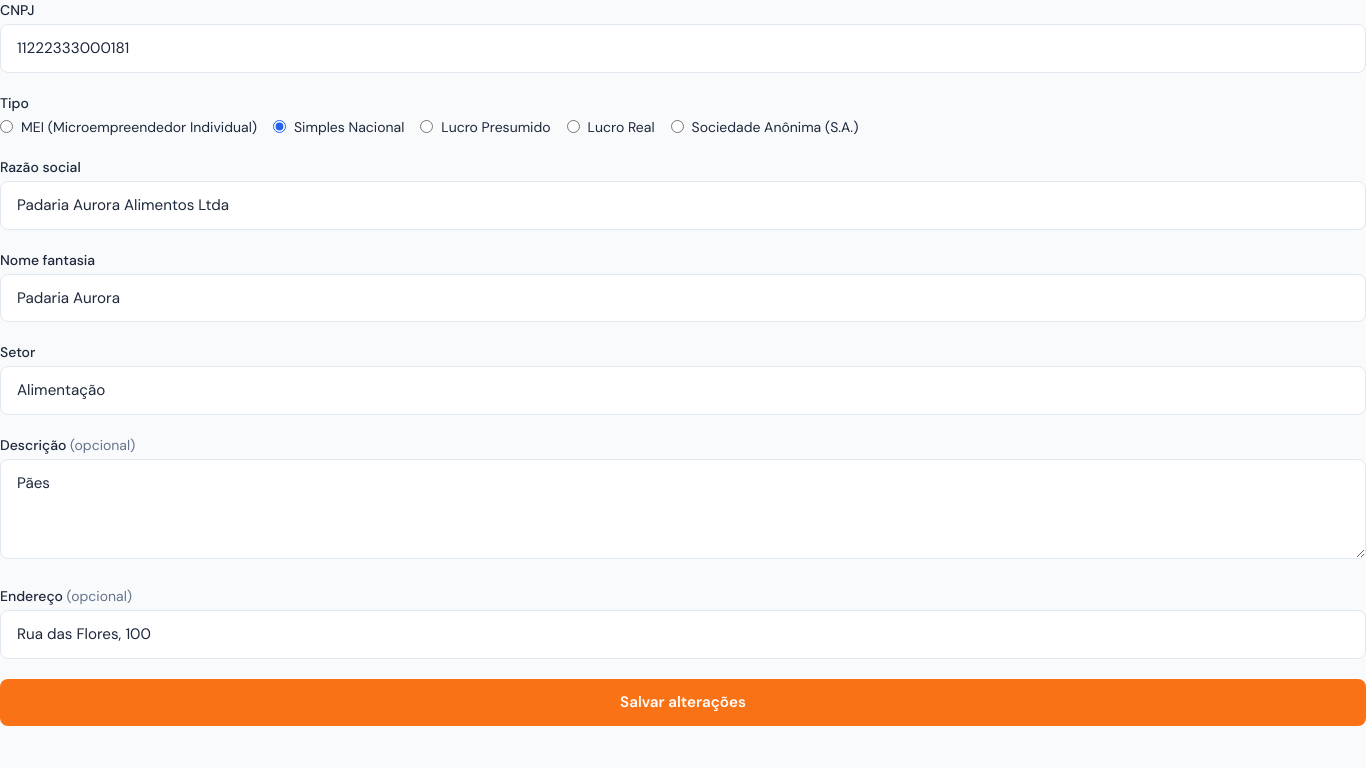
EditCompanyForm (USP-015) › cancelar o diálogo não envia a edição
This screenshot has width=1366, height=768.
Replace the text in the field labelled "Razão social" with "Outra Razão Social Ltda" at (683, 205), box 0,181 -> 1365,230
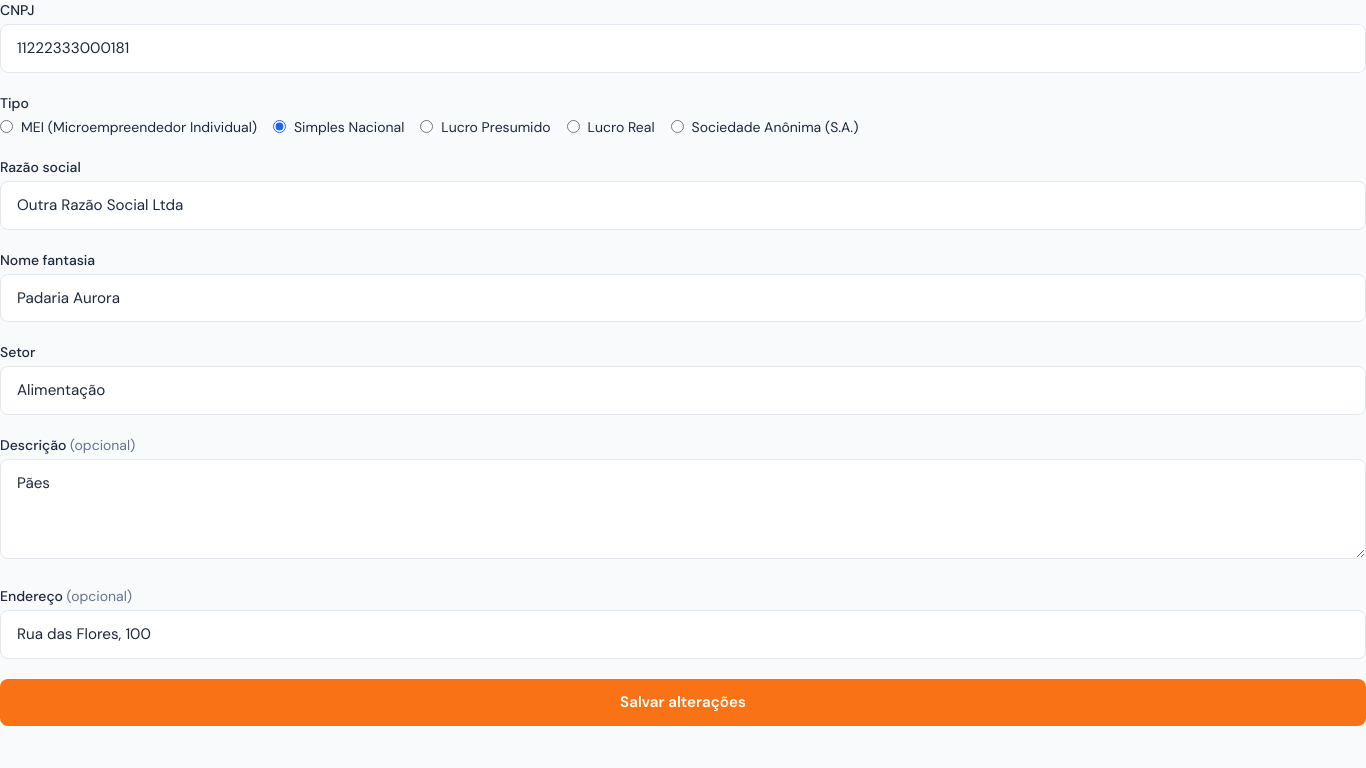
Click the button "Salvar alterações".
click(683, 702)  # box 0,679 -> 1365,726
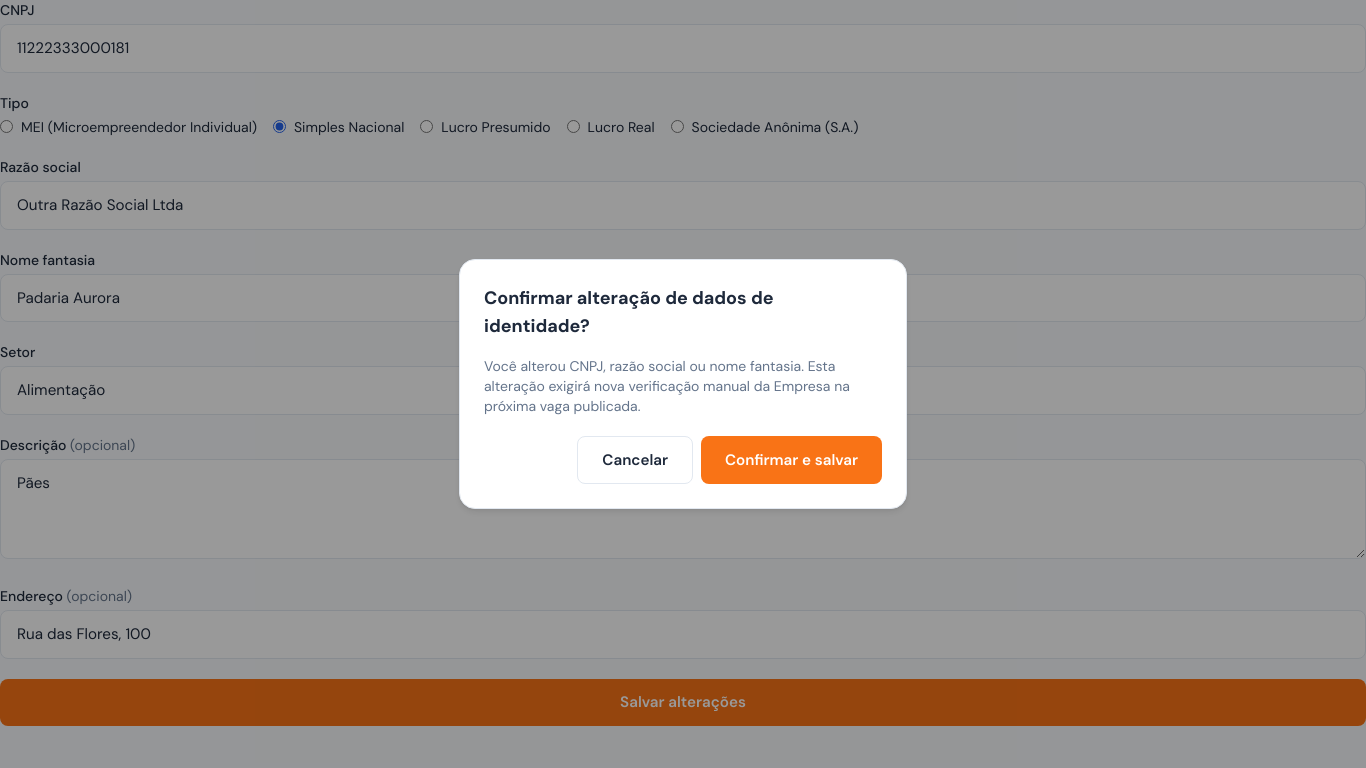
Result: the dialog is shown at 459,259 -> 907,509
Click the button "Cancelar".
click(635, 460)  # box 577,436 -> 693,484
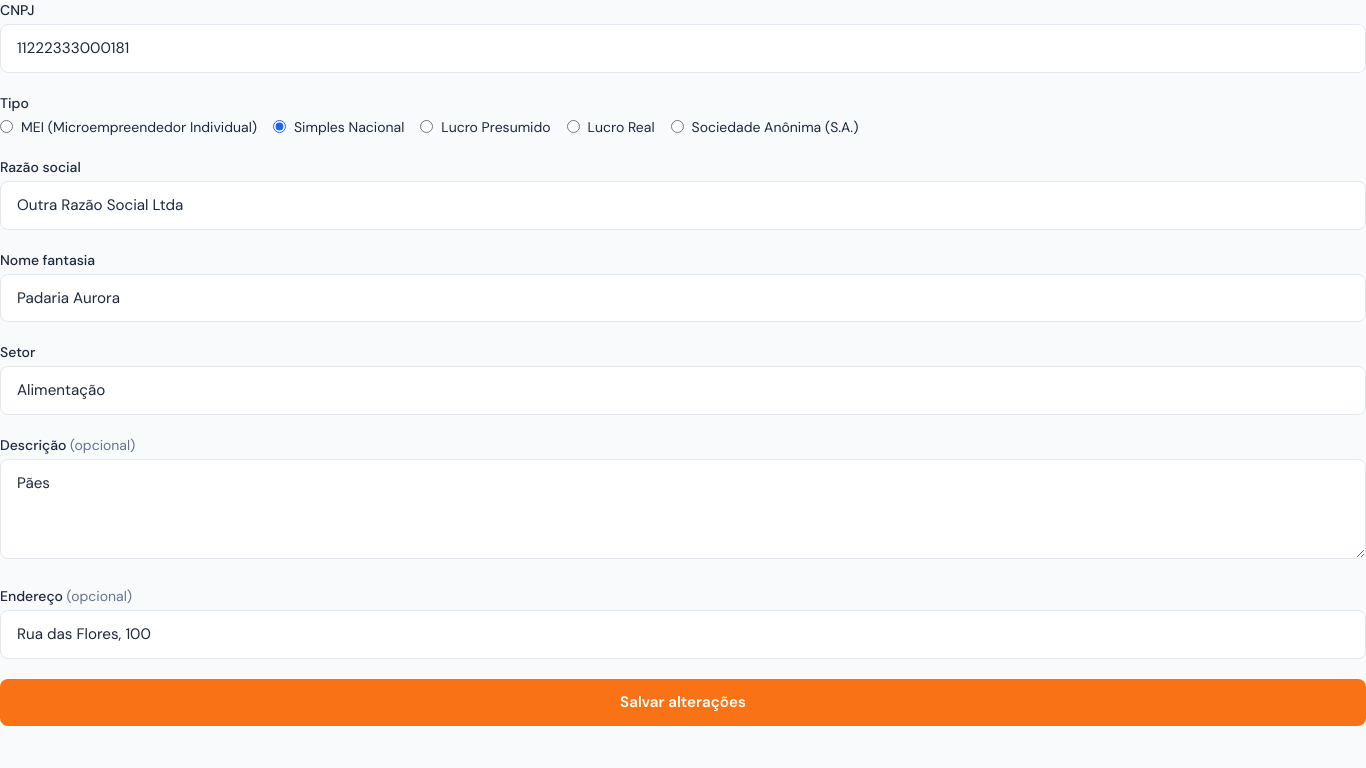
Result: the dialog is gone
